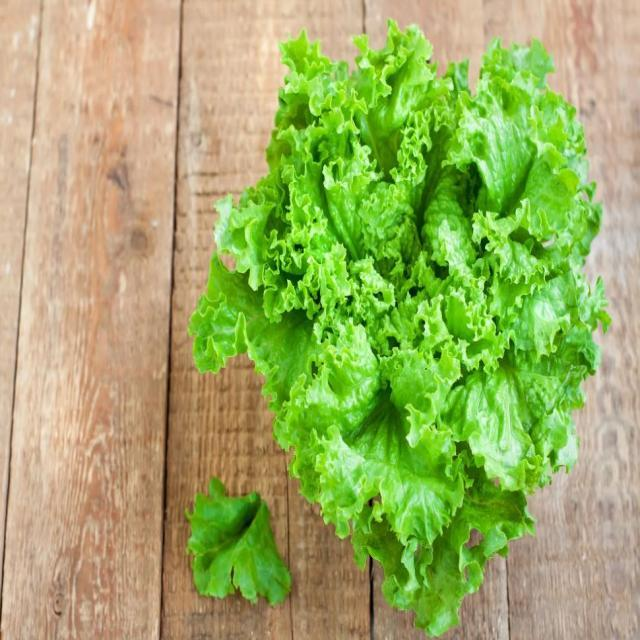Lettuce-Ready-to-Harvest: (200, 25, 616, 634)
